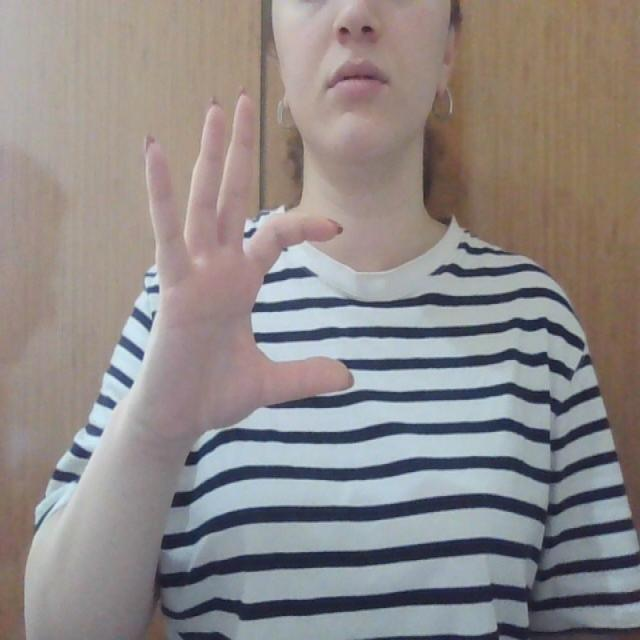Tuvalet: (120, 87, 368, 448)
